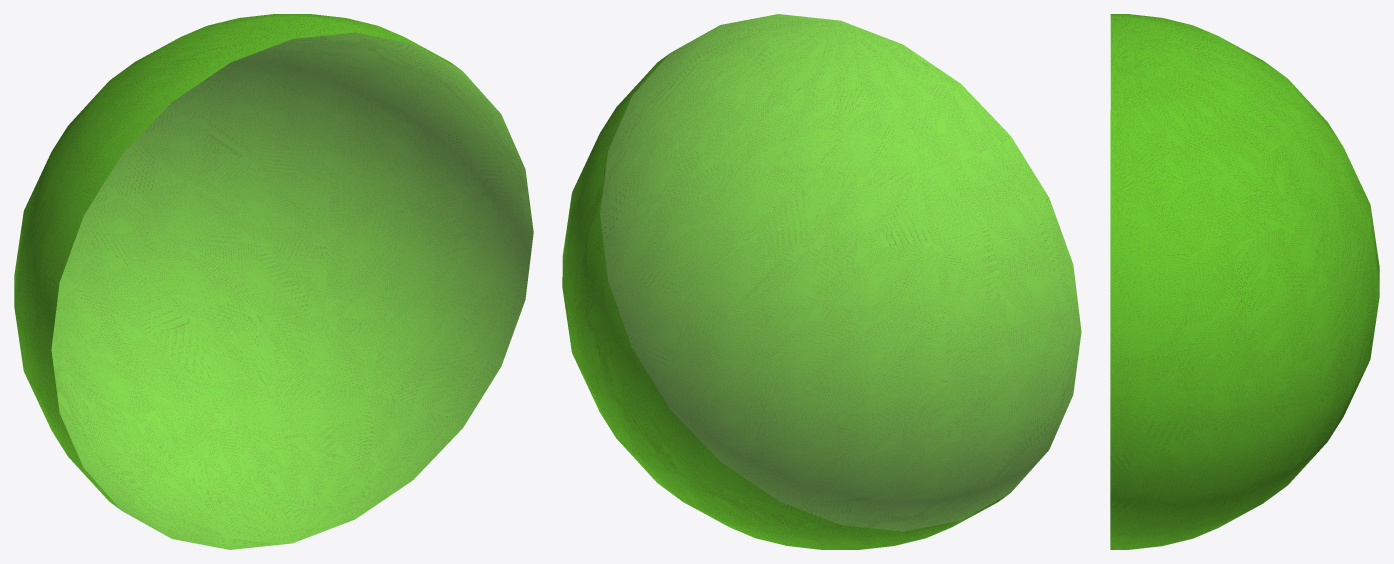
The model's file is original-5.obj.
3 renders of one model, left to right at view 1: azimuth 30°, elevation 25°; view 2: azimuth 150°, elevation 25°; view 3: azimuth 270°, elevation 25°, orthographic. The views are drawn at different scales.
Parts seen in each view (by area): view 1: mesh10/mesh10-geometry#mesh10-geometry; view 2: mesh10/mesh10-geometry#mesh10-geometry; view 3: mesh10/mesh10-geometry#mesh10-geometry.
Boxes of the visible parts, bbox=[...] form: mesh10/mesh10-geometry#mesh10-geometry: bbox=[14, 14, 533, 549]; mesh10/mesh10-geometry#mesh10-geometry: bbox=[562, 14, 1081, 549]; mesh10/mesh10-geometry#mesh10-geometry: bbox=[1110, 14, 1379, 549].
Bounding box in the file's own units: 0.0539 × 0.0539 × 0.027.
